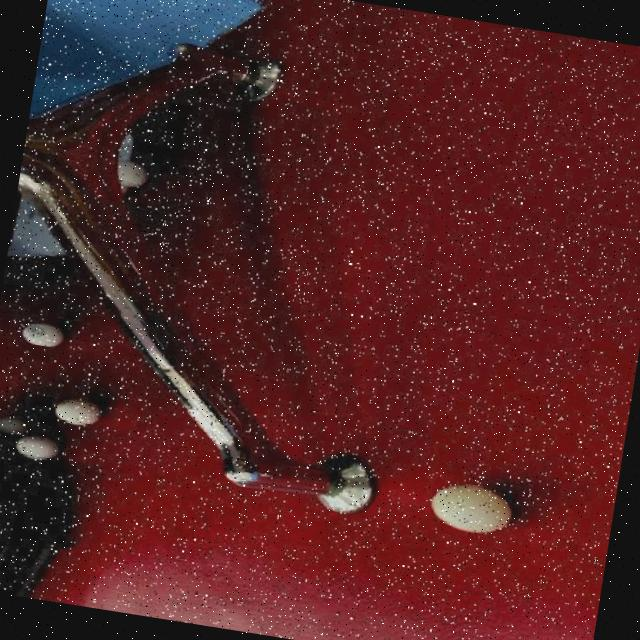ping-pong-ball: (423, 476, 521, 542), (43, 391, 110, 434), (6, 428, 68, 468), (108, 156, 158, 194), (13, 320, 67, 354)
